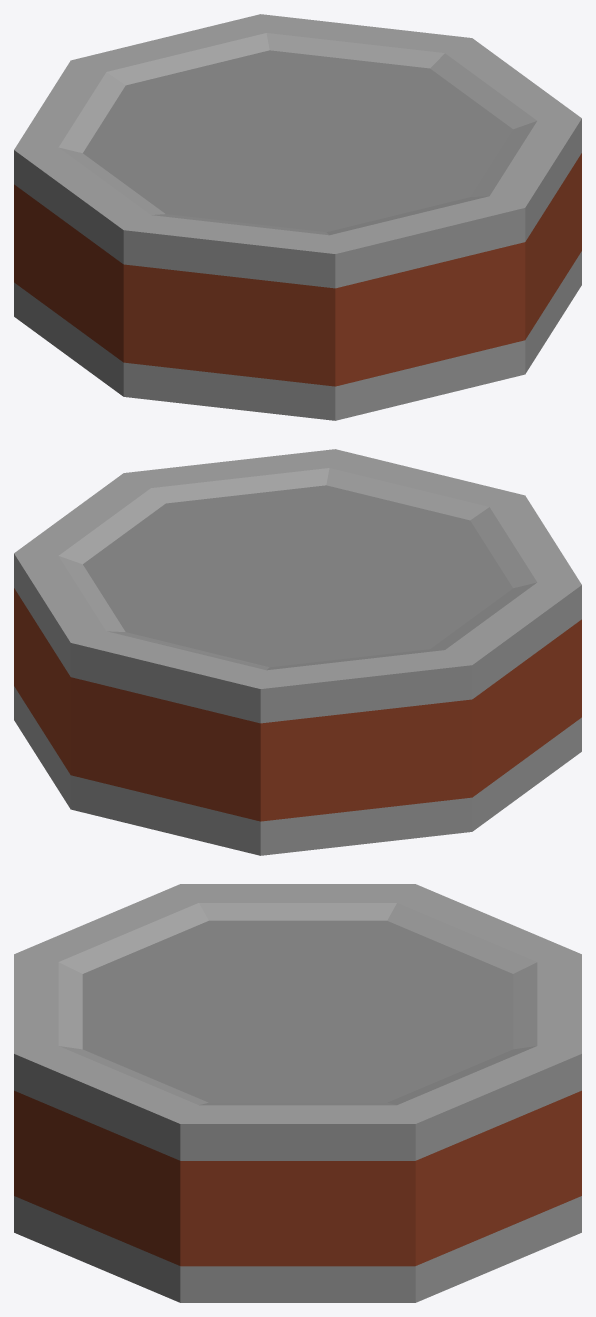
File: SM_Food_CannedFood_03.fbx
3 views of the same model, one above another, from view 1: azimuth 30°, elevation 25°; view 2: azimuth 150°, elevation 25°; view 3: azimuth 270°, elevation 25° (orthographic). The views are drawn at different scales.
Parts seen in each view (by area): view 1: SM_Food_CannedFood_03; view 2: SM_Food_CannedFood_03; view 3: SM_Food_CannedFood_03.
Part boxes in pixels (left/top/right/bottom): SM_Food_CannedFood_03: left=14, top=14, right=581, bottom=420; SM_Food_CannedFood_03: left=14, top=449, right=581, bottom=855; SM_Food_CannedFood_03: left=14, top=884, right=581, bottom=1302.
Bounding box in the file's own units: 0.1267 × 0.044 × 0.1267.
